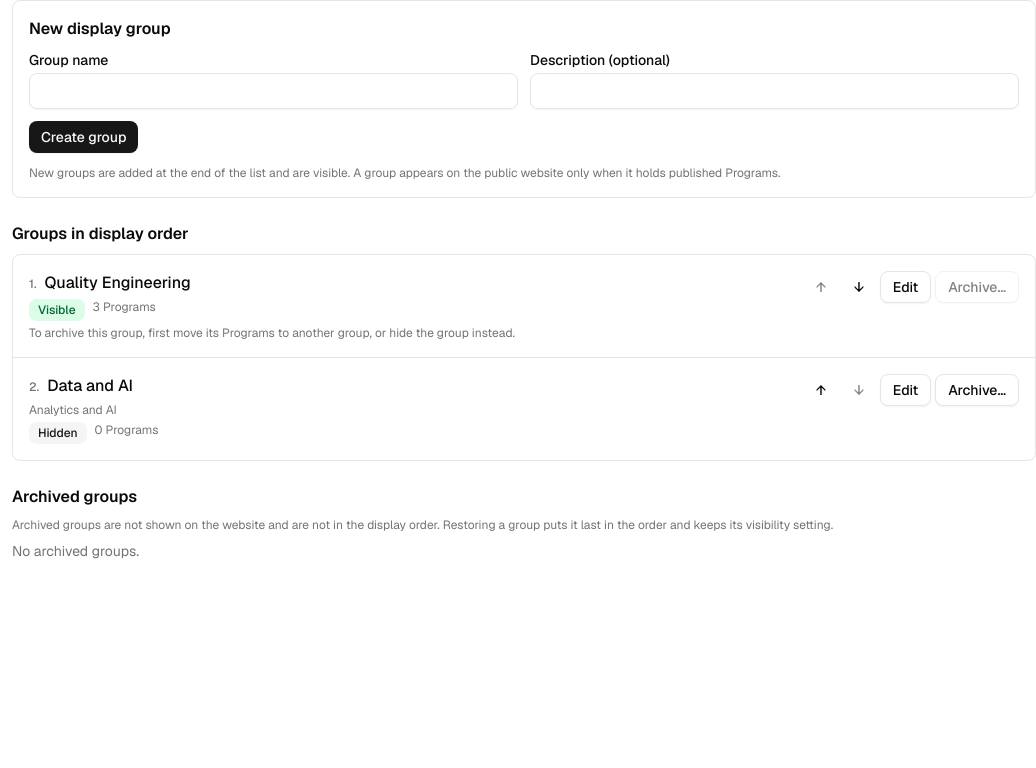
DisplayGroupsManager › creates a group and shows a duplicate name next to the field
Type "Data and AI" into the field labelled "Group name" at (274, 91), box 29,73 -> 518,109
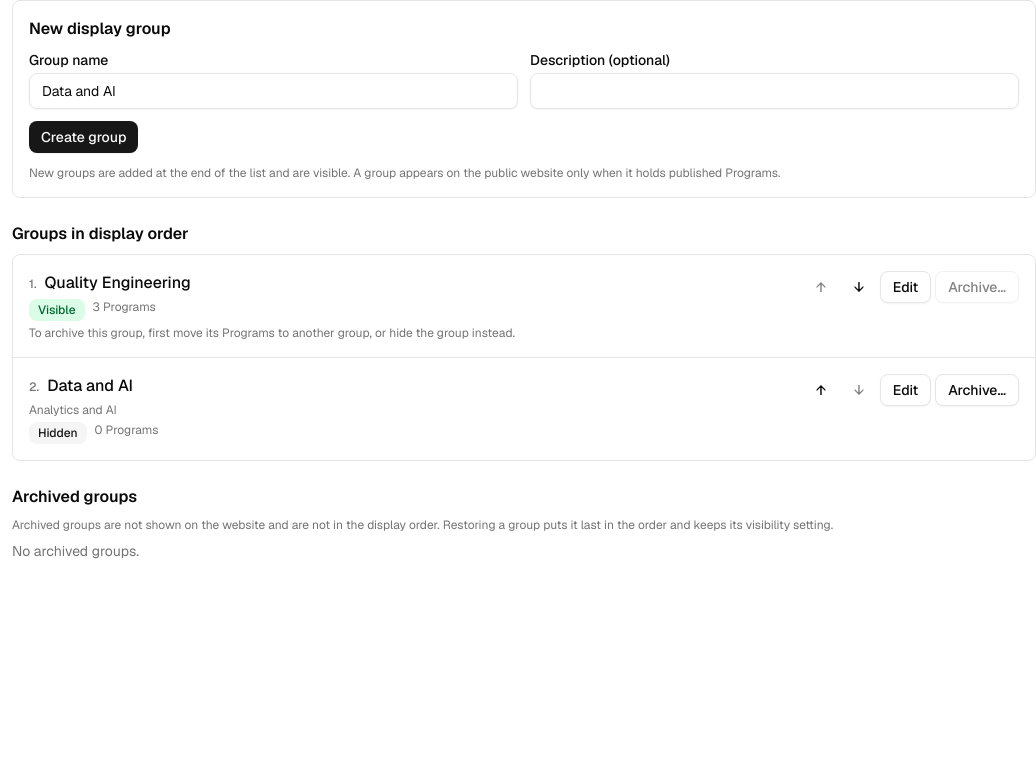
Click the button "Create group" at (84, 137), box 29,121 -> 138,153
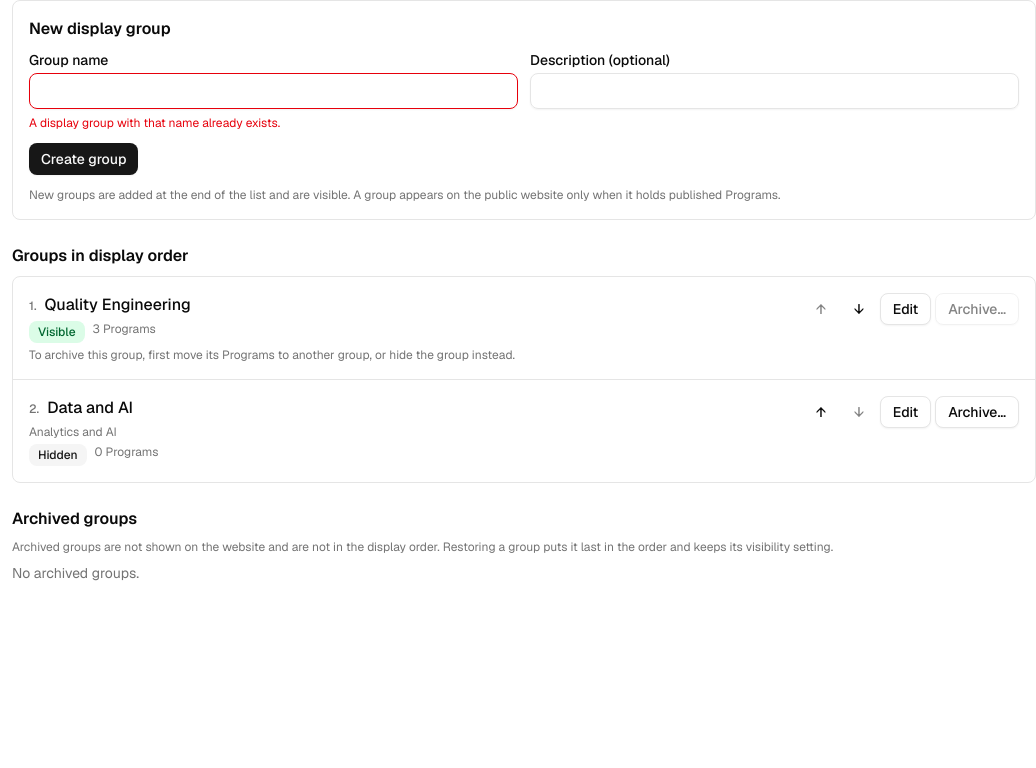
Expected: the text "A display group with that name already exists." is shown, 29,115 -> 280,131
